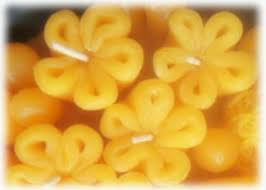tongyip: (33, 5, 145, 113), (153, 3, 255, 110), (102, 79, 198, 185)
